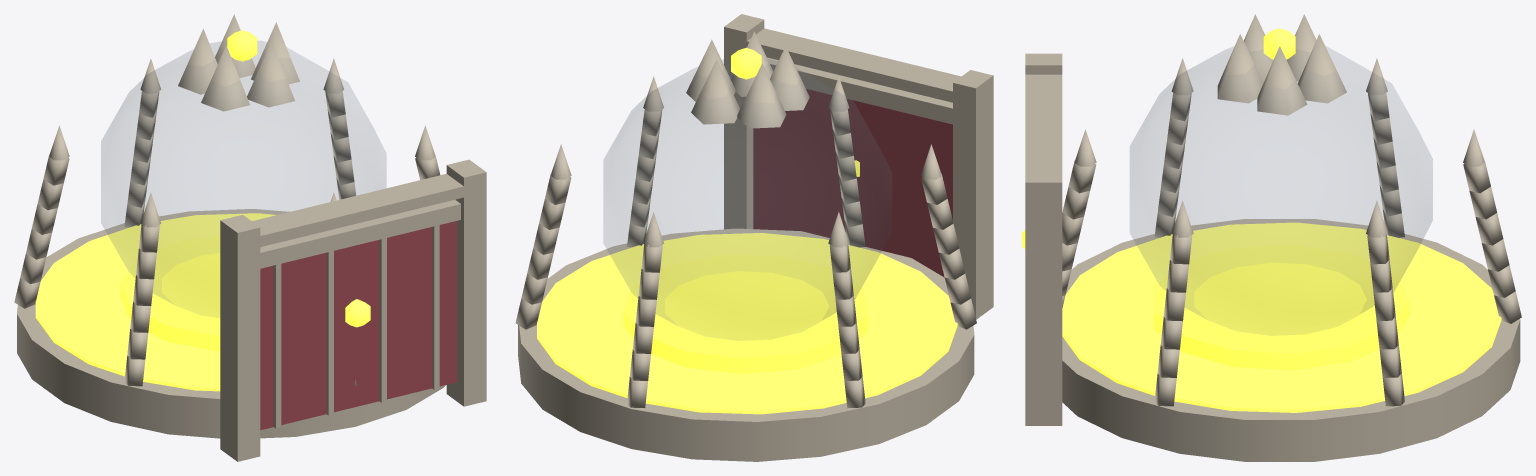
File: MonsterHub_SOLAR_Hatchery.glb
The picture shows the model from 3 angles, left to right: view 1: azimuth 30°, elevation 25°; view 2: azimuth 150°, elevation 25°; view 3: azimuth 270°, elevation 25°; orthographic projection. The views are drawn at different scales.
Visible parts, largest first — view 1: MonsterHub_SOLAR_Hatchery, MonsterHub_SOLAR_Hatchery_Gate; view 2: MonsterHub_SOLAR_Hatchery, MonsterHub_SOLAR_Hatchery_Gate; view 3: MonsterHub_SOLAR_Hatchery.
Part boxes in pixels (x1,y1,x2,y2): MonsterHub_SOLAR_Hatchery: (14, 14, 486, 461); MonsterHub_SOLAR_Hatchery_Gate: (260, 200, 460, 430); MonsterHub_SOLAR_Hatchery: (515, 14, 993, 461); MonsterHub_SOLAR_Hatchery_Gate: (753, 57, 952, 277); MonsterHub_SOLAR_Hatchery: (1025, 14, 1521, 461).
Size of the model in its own units: 5.15 by 3.97 by 5.4.
